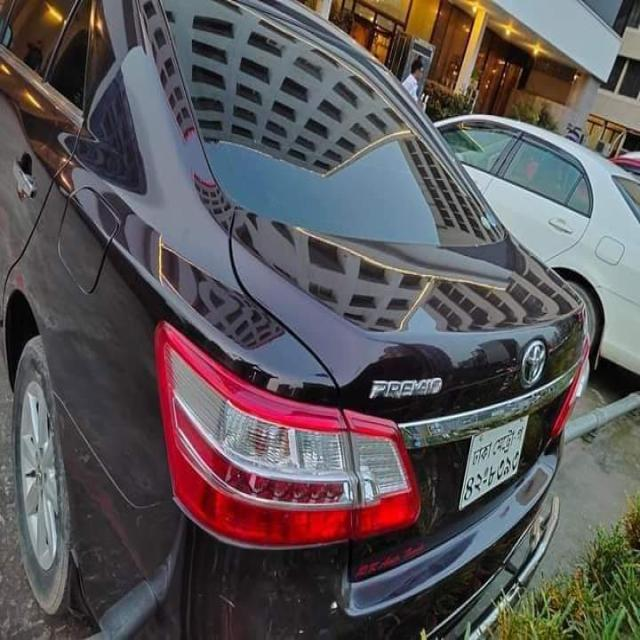black: (0, 0, 568, 619)
white: (460, 74, 640, 298)
